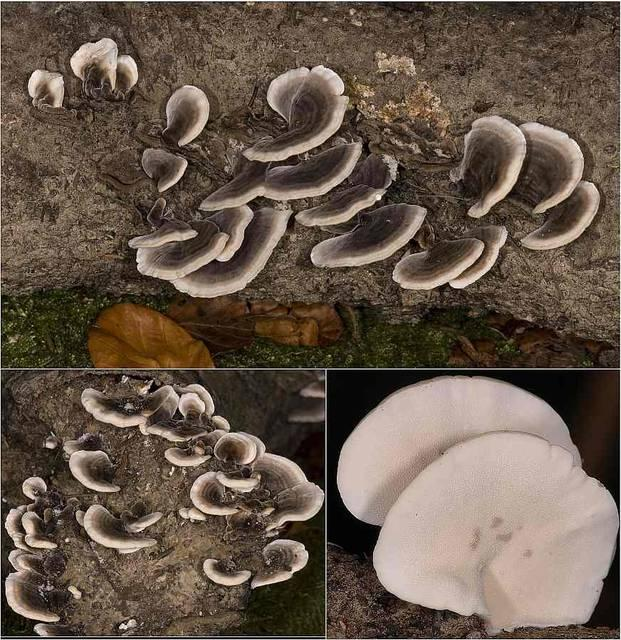poisonous_mushroom: (26, 37, 601, 299), (336, 374, 618, 634), (26, 68, 65, 109)
